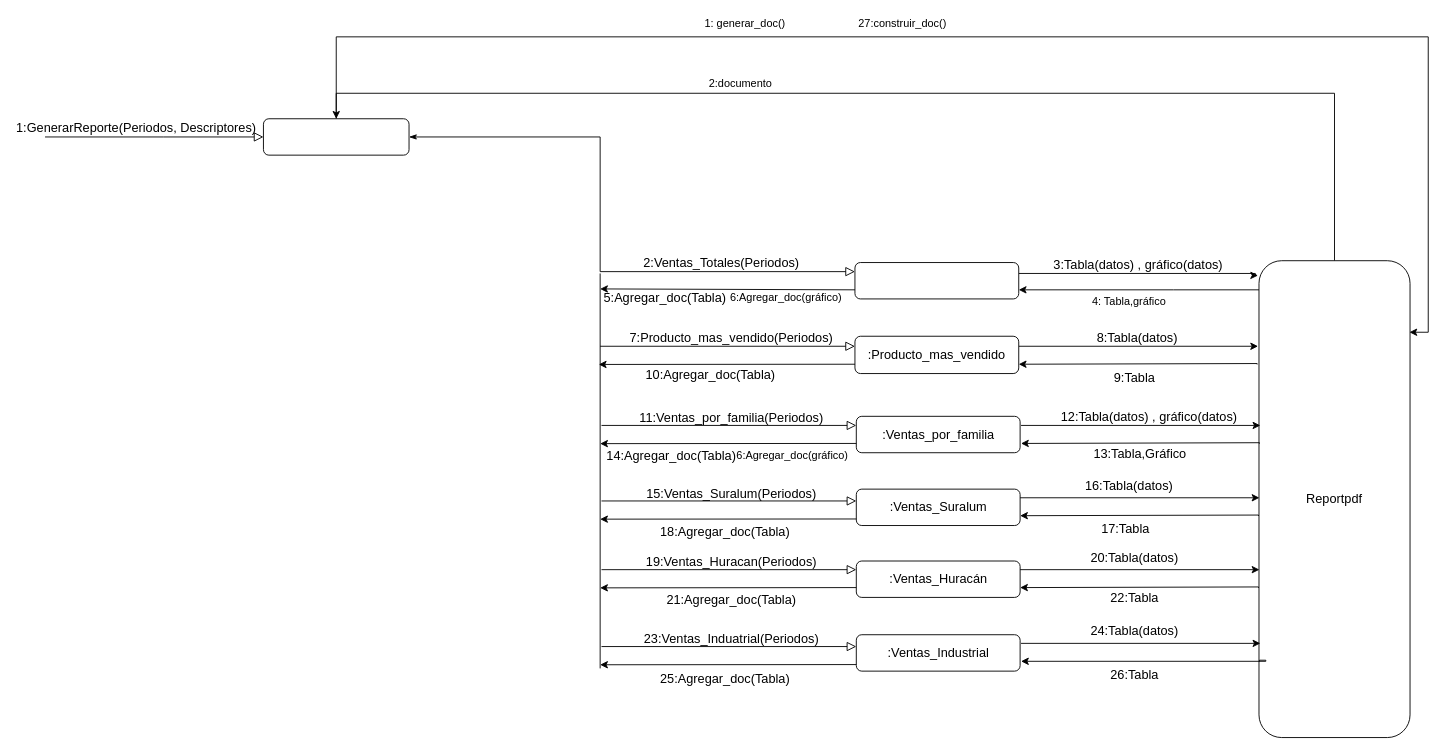
Some shapes in this 1451 by 753 pixel diagram are drawn without their labels. The shapes that lost their labels are listed below. From the top down, each one's box as (x1, y1, x2, y2) in pixels, then its label:
(263, 118, 409, 155): :Reporte
(854, 262, 1019, 299): :Ventas_totales
